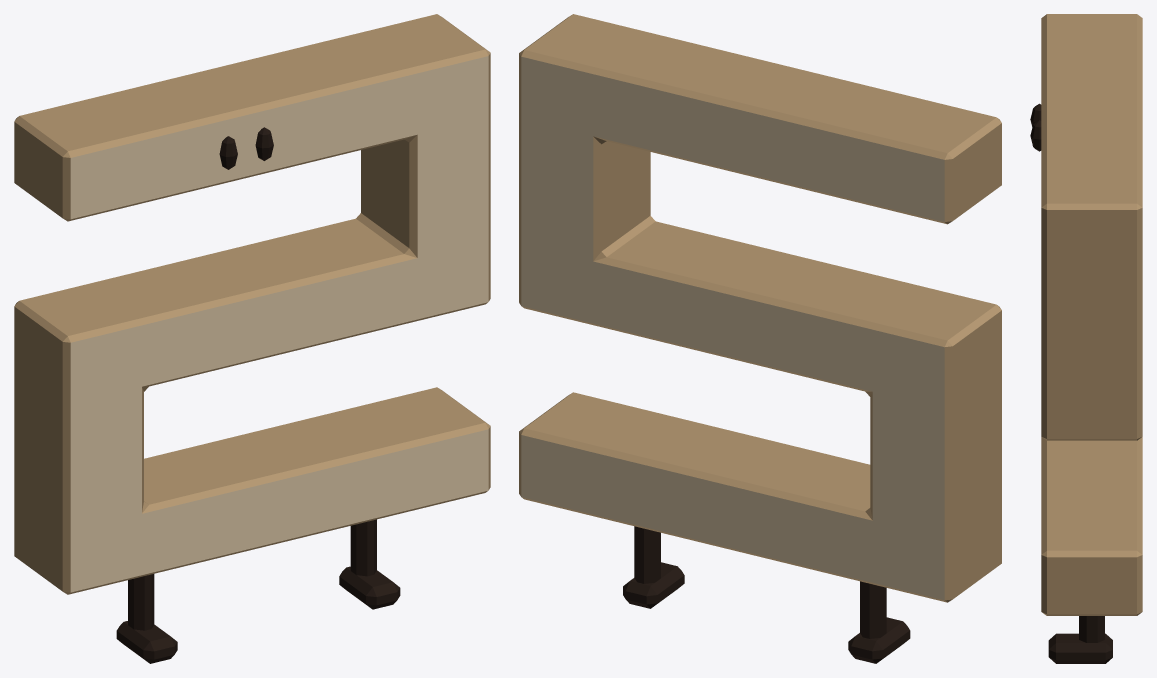
The model's file is rieul.glb.
3 views of the same model, side by side, from view 1: azimuth 30°, elevation 25°; view 2: azimuth 150°, elevation 25°; view 3: azimuth 270°, elevation 25° (orthographic). The views are drawn at different scales.
Visible parts, largest first — view 1: Glyph, Leg_L, Leg_R; view 2: Glyph, Leg_R, Leg_L; view 3: Glyph, Leg_R, Eye_R.
Boxes of the visible parts, bbox=[...] form: Glyph: bbox=[14, 14, 490, 594]; Leg_L: bbox=[116, 574, 177, 663]; Leg_R: bbox=[339, 519, 400, 609]; Glyph: bbox=[519, 14, 1001, 602]; Leg_R: bbox=[623, 526, 684, 608]; Leg_L: bbox=[848, 581, 910, 663]; Glyph: bbox=[1041, 14, 1142, 615]; Leg_R: bbox=[1048, 616, 1112, 663]; Eye_R: bbox=[1030, 120, 1041, 151].
Bounding box in the file's own units: 0.5 × 0.6 × 0.122.
